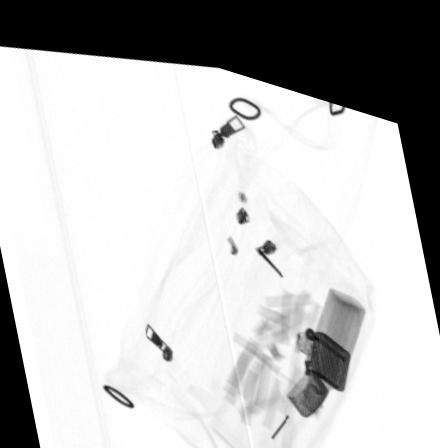Lighter: (286, 307, 350, 399)
